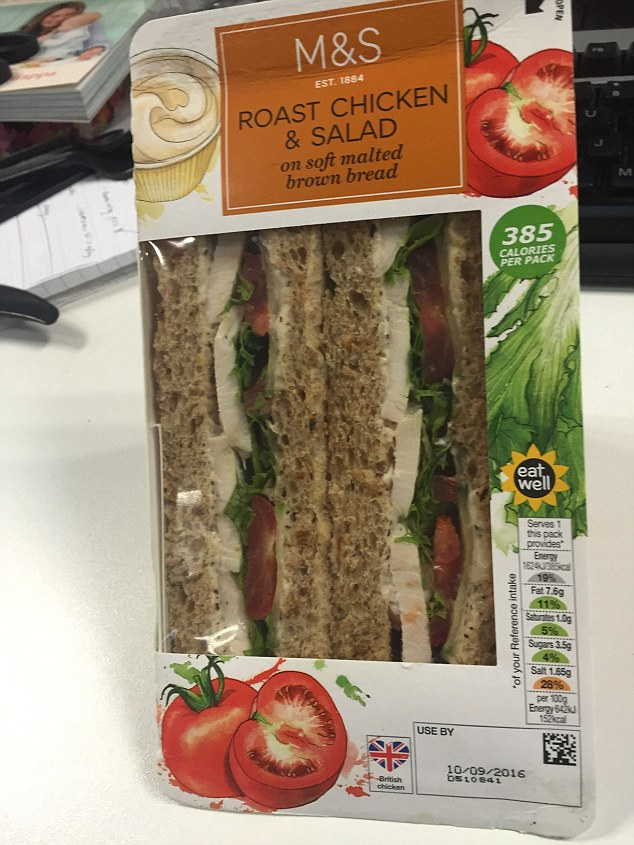sandwich: (114, 2, 634, 844)
